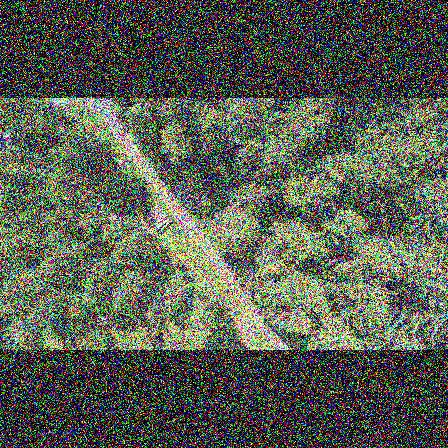Sick: (365, 272, 397, 310), (3, 324, 34, 347)
